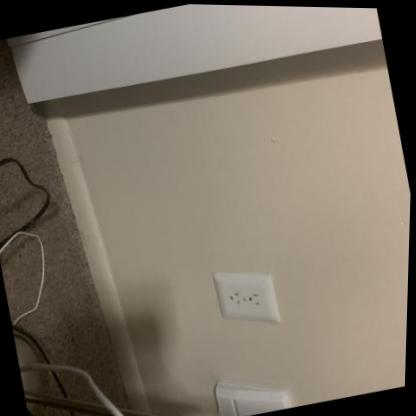OUTLET: (210, 260, 282, 328)
